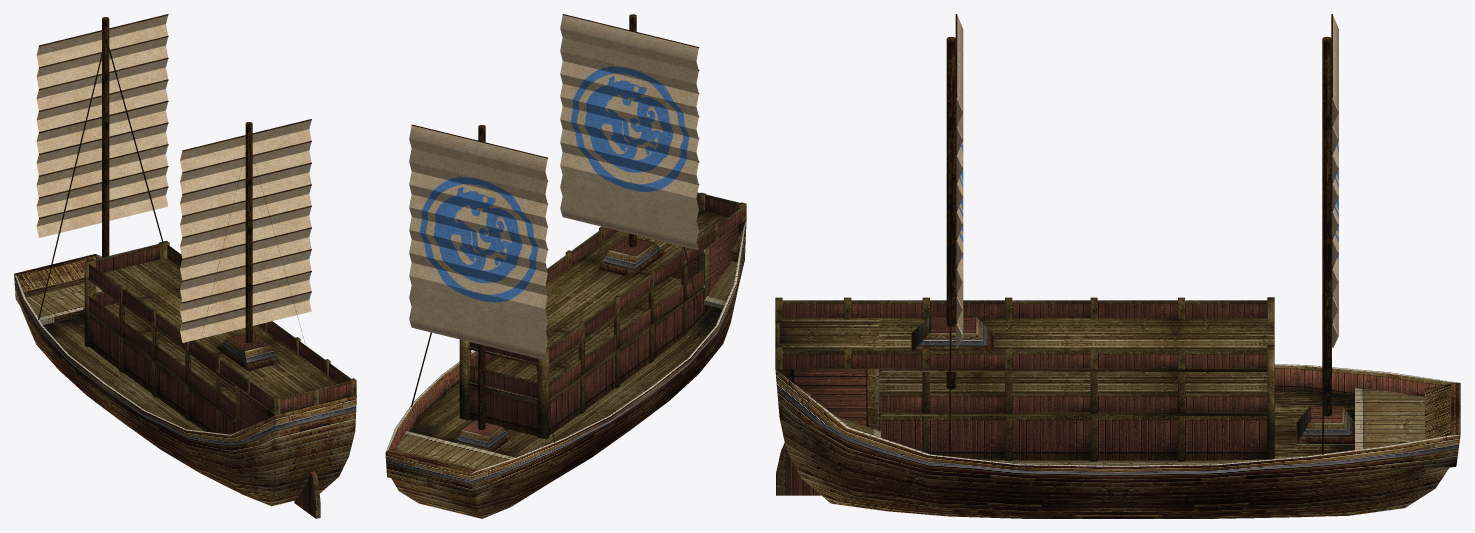
The model's file is han_trireme.glb.
3 views of the same model, side by side, from view 1: azimuth 30°, elevation 25°; view 2: azimuth 150°, elevation 25°; view 3: azimuth 270°, elevation 25° (orthographic). The views are drawn at different scales.
Parts seen in each view (by area): view 1: han_trireme_part0, han_trireme_part1; view 2: han_trireme_part0, han_trireme_part1; view 3: han_trireme_part0, han_trireme_part1.
Part boxes in pixels (<box>): han_trireme_part0: <box>14,14,356,518</box>; han_trireme_part1: <box>36,15,311,342</box>; han_trireme_part0: <box>385,14,746,518</box>; han_trireme_part1: <box>409,15,698,360</box>; han_trireme_part0: <box>775,14,1460,518</box>; han_trireme_part1: <box>956,15,1338,348</box>.
Size of the model in its own units: 2.53 by 5.12 by 7.
2 materials, 2 textured.
